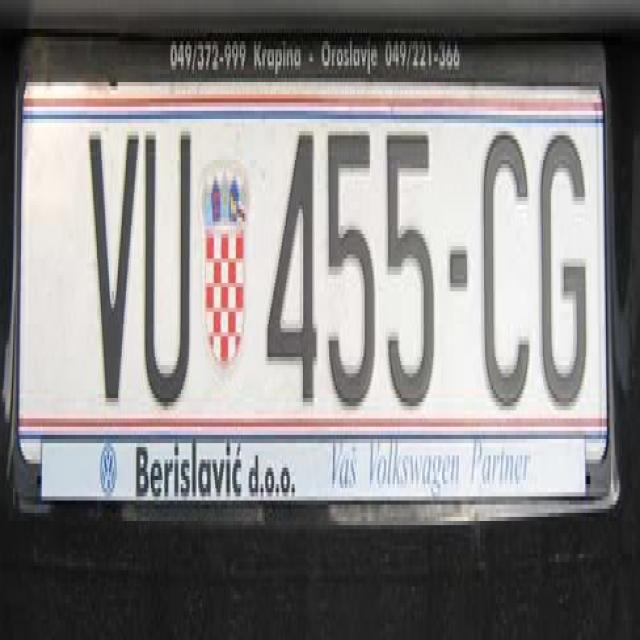Autre: (15, 61, 615, 503)
